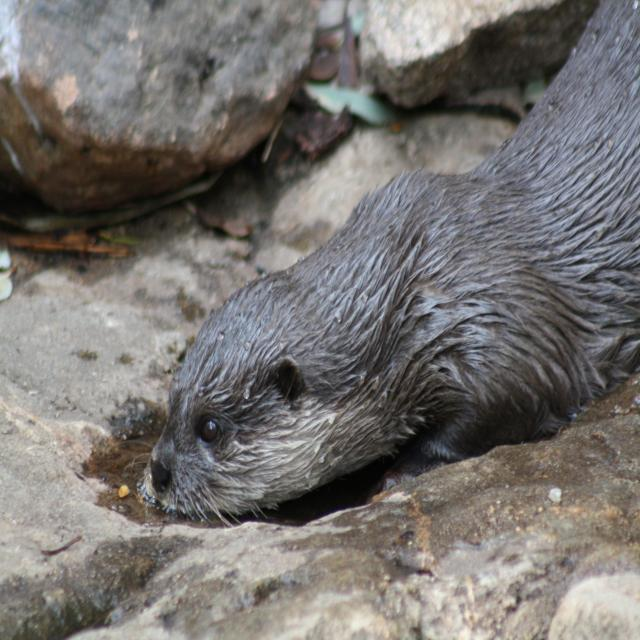otter: (145, 149, 586, 513)
